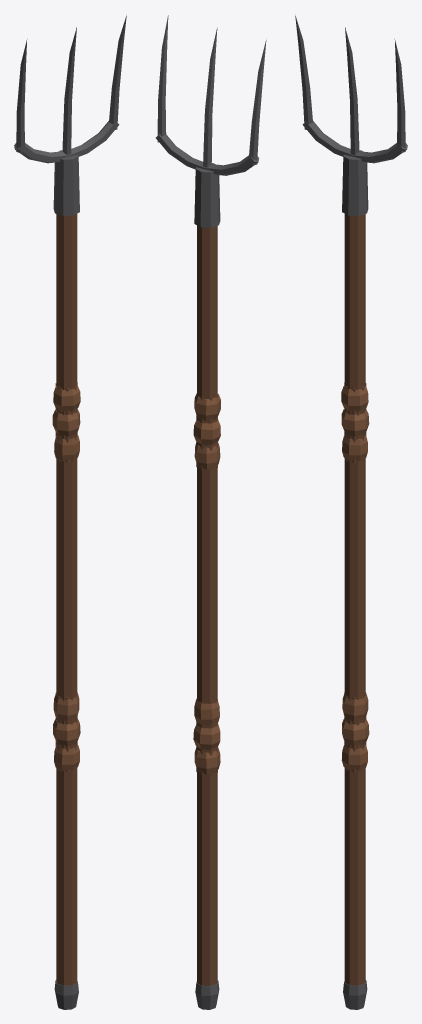
The model's file is pitchfork.glb.
3 renders of one model, left to right at view 1: azimuth 30°, elevation 25°; view 2: azimuth 150°, elevation 25°; view 3: azimuth 330°, elevation 25°, orthographic.
Parts seen in each view (by area): view 1: pitchfork; view 2: pitchfork; view 3: pitchfork.
Boxes of the visible parts, x1,y1,x2,y2 form: pitchfork: (14,15,126,1009); pitchfork: (155,15,266,1009); pitchfork: (295,15,407,1009).
Bounding box in the file's own units: 0.1754 × 1.6 × 0.0508.
